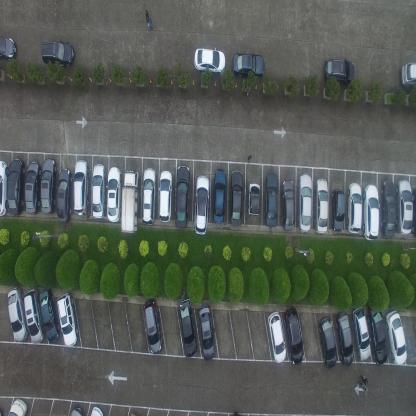car: (120, 166, 139, 235), (6, 285, 29, 342), (367, 303, 388, 365), (57, 291, 80, 347), (385, 309, 407, 365), (22, 288, 44, 344), (38, 287, 60, 342), (178, 299, 198, 359), (284, 307, 304, 366), (143, 298, 162, 354), (352, 304, 371, 360), (266, 310, 286, 363), (318, 315, 337, 370), (7, 157, 25, 215), (396, 177, 413, 236), (194, 174, 210, 236), (175, 164, 190, 230), (336, 311, 354, 366), (231, 51, 265, 80), (198, 304, 215, 362), (381, 179, 397, 239), (41, 38, 74, 67), (193, 45, 226, 74), (40, 157, 56, 216), (324, 56, 355, 86), (296, 174, 312, 232), (73, 158, 89, 216), (24, 160, 41, 214), (363, 183, 379, 240), (229, 168, 244, 226), (106, 166, 121, 223), (141, 166, 155, 226), (212, 168, 227, 224), (57, 169, 72, 224), (91, 162, 105, 219), (280, 178, 295, 231), (347, 182, 362, 233), (315, 178, 328, 235), (265, 172, 278, 228), (159, 170, 172, 222), (331, 187, 346, 232), (0, 160, 9, 218), (0, 35, 18, 62), (247, 182, 260, 216), (402, 60, 416, 90), (6, 397, 28, 415), (412, 186, 416, 239), (89, 403, 104, 415), (69, 404, 85, 415)
